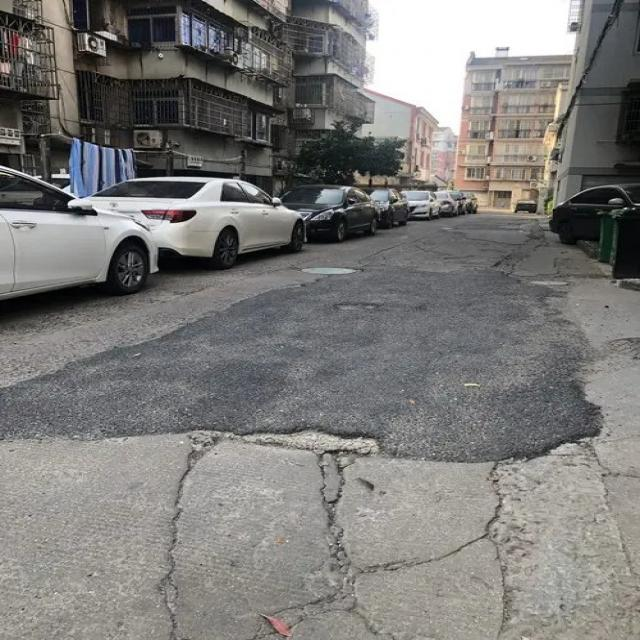Pothole: (208, 416, 404, 476), (312, 508, 397, 634), (326, 295, 401, 320)
